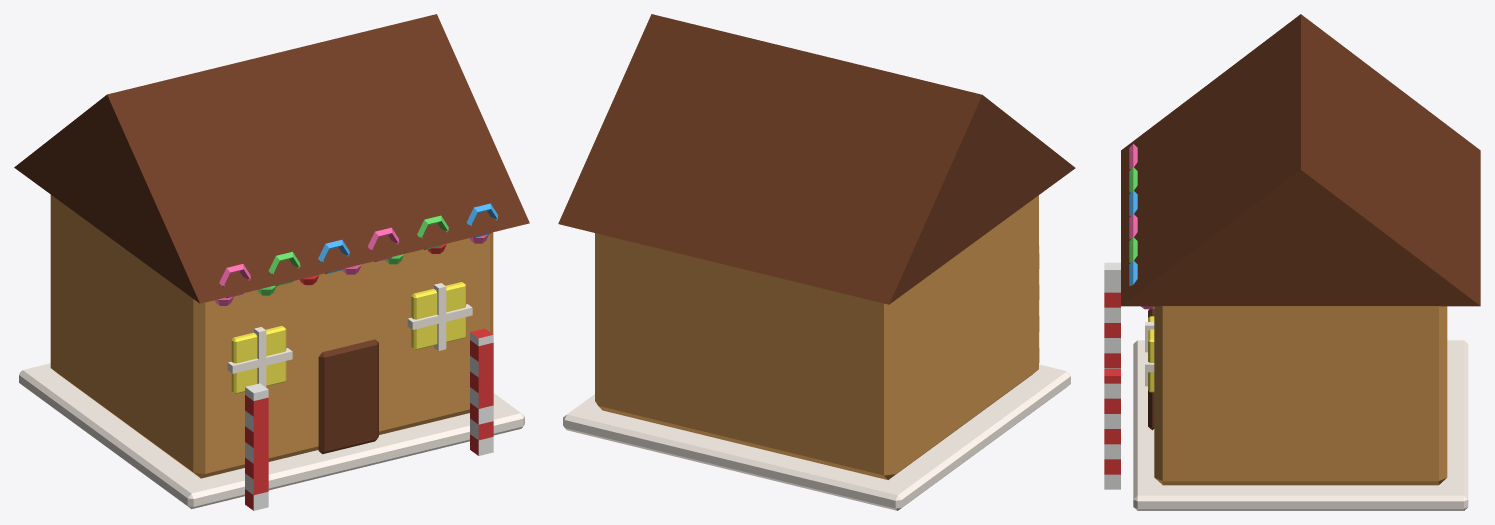
The model's file is GingerbreadHouse.fbx.
3 views of the same model, side by side, from view 1: azimuth 30°, elevation 25°; view 2: azimuth 150°, elevation 25°; view 3: azimuth 270°, elevation 25° (orthographic). The views are drawn at different scales.
Parts seen in each view (by area): view 1: GingerbreadHouse_Roof, GingerbreadHouse, GingerbreadHouse_Door; view 2: GingerbreadHouse, GingerbreadHouse_Roof; view 3: GingerbreadHouse_Roof, GingerbreadHouse.
Part boxes in pixels (box(x1,y1,x2,y2)): GingerbreadHouse_Roof: box(14, 14, 529, 303); GingerbreadHouse: box(19, 195, 524, 510); GingerbreadHouse_Door: box(318, 339, 378, 454); GingerbreadHouse: box(563, 195, 1070, 510); GingerbreadHouse_Roof: box(558, 14, 1075, 304); GingerbreadHouse_Roof: box(1121, 14, 1480, 306); GingerbreadHouse: box(1104, 262, 1468, 510).
Size of the model in its own units: 9 by 9 by 9.
Materials: 1 (1 with a texture image).
